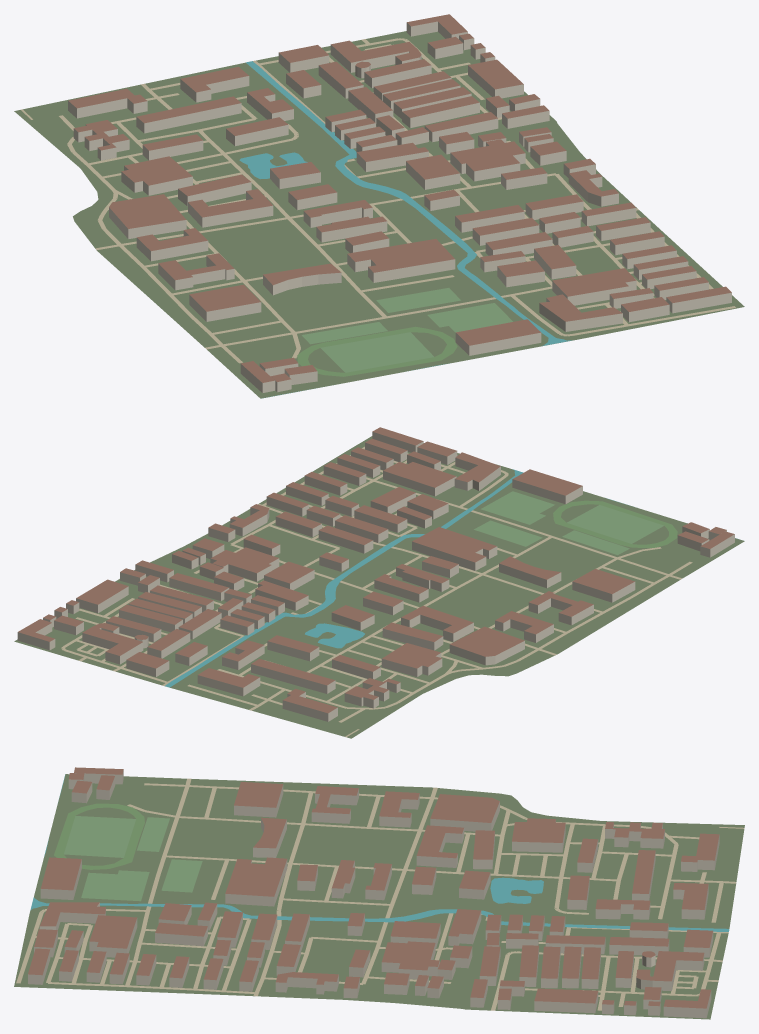
3 renders of one model, top to bottom at view 1: azimuth 30°, elevation 25°; view 2: azimuth 150°, elevation 25°; view 3: azimuth 270°, elevation 25°, orthographic. The views are drawn at different scales.
Parts seen in each view (by area): view 1: campus-ground, roofs, buildings, environment (×4); view 2: campus-ground, roofs, buildings, environment (×4); view 3: campus-ground, roofs, environment (×4), buildings.
Part boxes in pixels (<box>): campus-ground: <box>14,31,744,398</box>; roofs: <box>68,14,731,382</box>; buildings: <box>68,21,731,393</box>; environment (×4): <box>20,38,735,398</box>; campus-ground: <box>14,436,744,738</box>; roofs: <box>18,427,734,713</box>; buildings: <box>17,432,734,721</box>; environment (×4): <box>61,446,738,737</box>; campus-ground: <box>14,774,744,1019</box>; roofs: <box>28,767,719,1008</box>; environment (×4): <box>16,774,744,1010</box>; buildings: <box>28,770,719,1018</box>.
Bounding box in the file's own units: 652 × 12.2 × 821.
